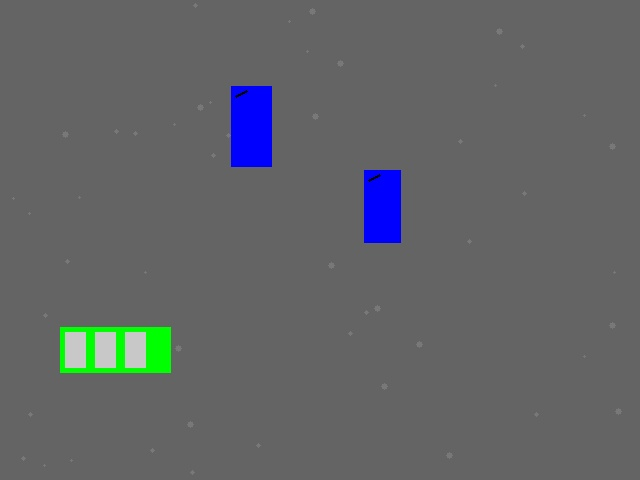bus: (60, 327, 170, 372)
motorcycle: (231, 86, 271, 166), (364, 170, 400, 242)
